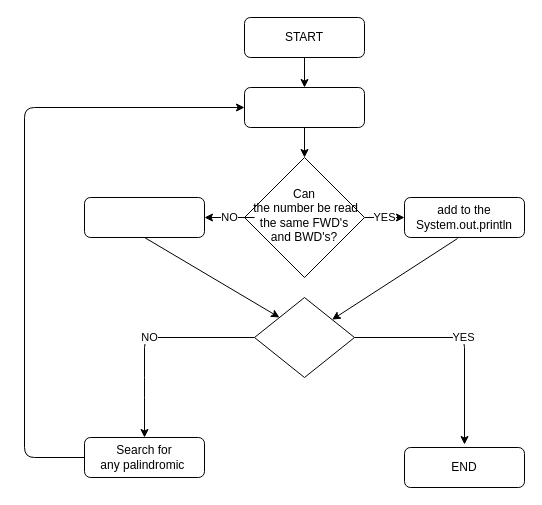
This 542x505 diagram has some shape labels left out. The box of each missing label's shape, as (x1, y1, x2, y2) in pixels:
Last number?: (254, 296, 354, 378)
Move to the next number: (84, 196, 204, 238)
Search first 100,000 positive numbers for palindromic value: (244, 86, 364, 128)
